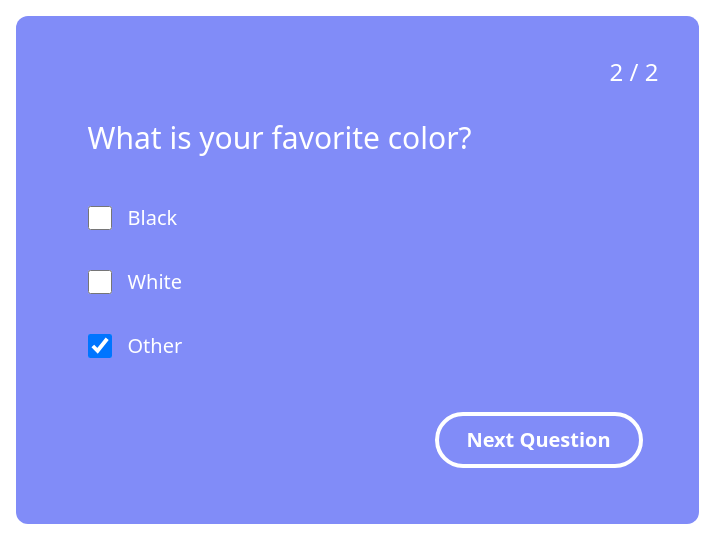
Form UI E2E Test › after button clicked form should complete
Click the button "Next Question". click: {"x": 539, "y": 440}
box: x1=435 y1=412 x2=643 y2=468
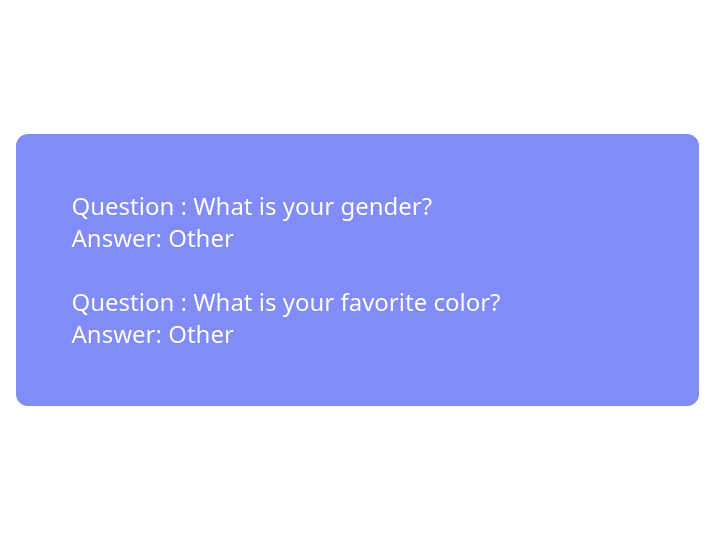
Now the text "Question : What is your gender?" is shown, box x1=72 y1=189 x2=432 y2=222
Now the text "Answer: Other" below "What is your gender?" is shown, box x1=72 y1=221 x2=234 y2=254
Now the text "Question : What is your favorite color?" is shown, box x1=72 y1=285 x2=500 y2=318
